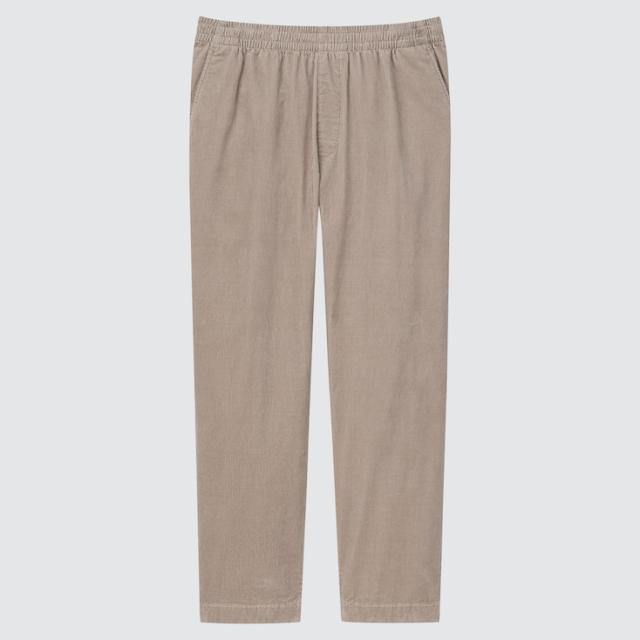long-pants: (188, 17, 452, 627)
